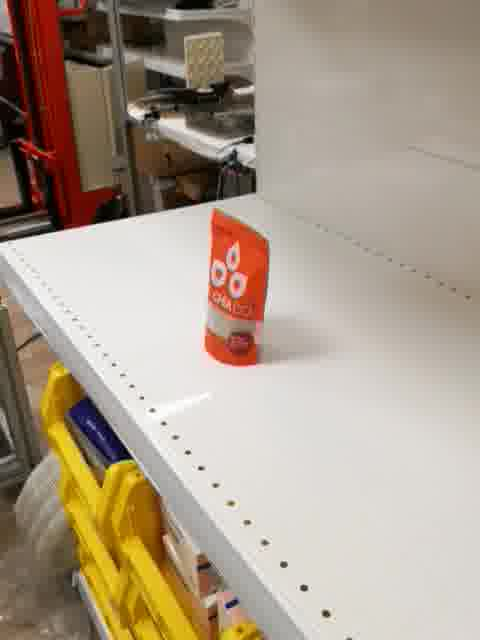whitechia: (204, 205, 270, 366)
